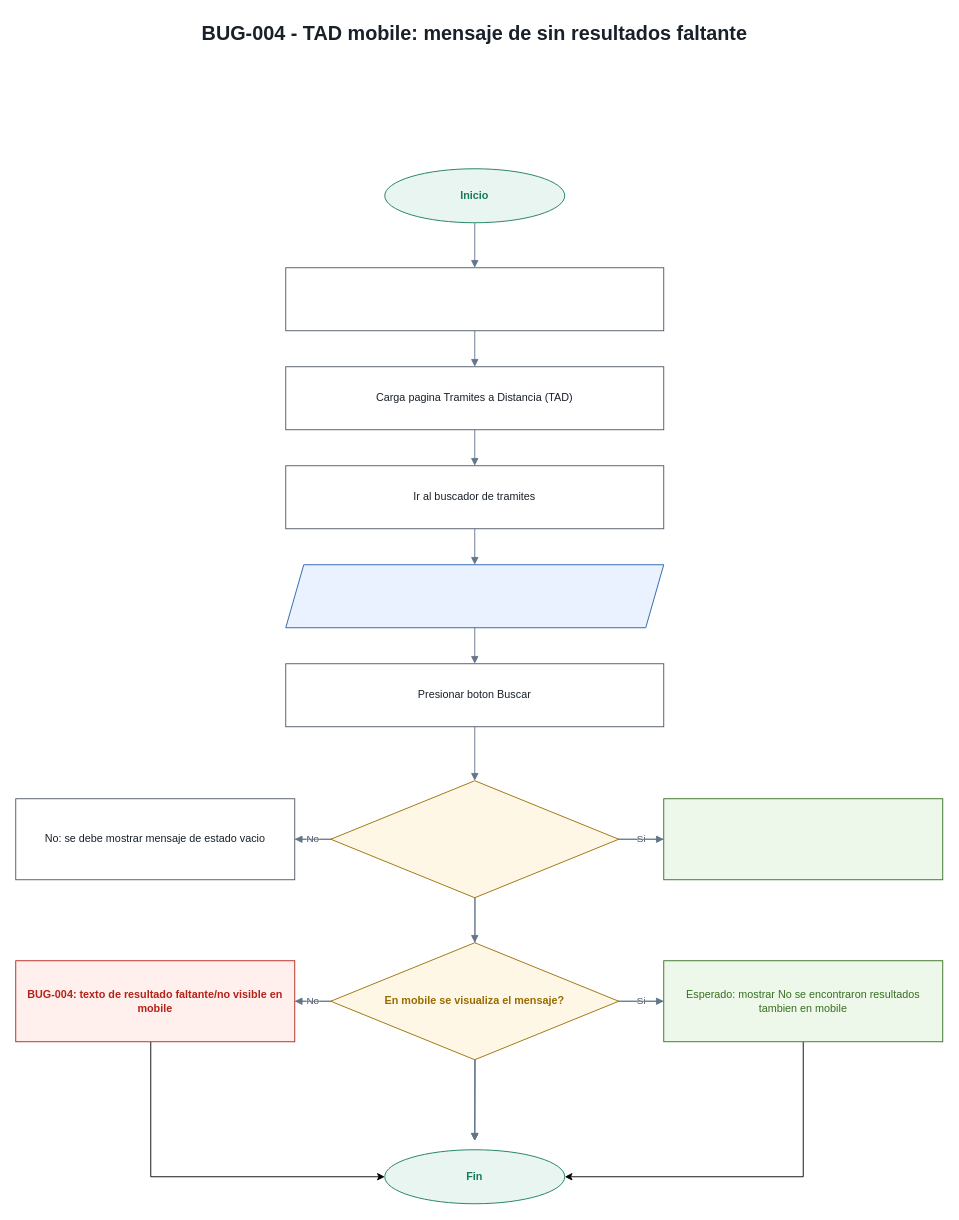
The diagram is 959 pixels wide and 1220 high, and some of its shapes have lost their labels. Each missing label, with the box of its shape:
Abrir https://www.argentina.gob.ar/tad: (285, 267, 664, 331)
Hay resultados para mostrar?: (330, 780, 619, 898)
Ingresar busqueda sin resultados: (285, 564, 664, 628)
Si: mostrar listado y contador de resultados: (663, 798, 943, 880)
